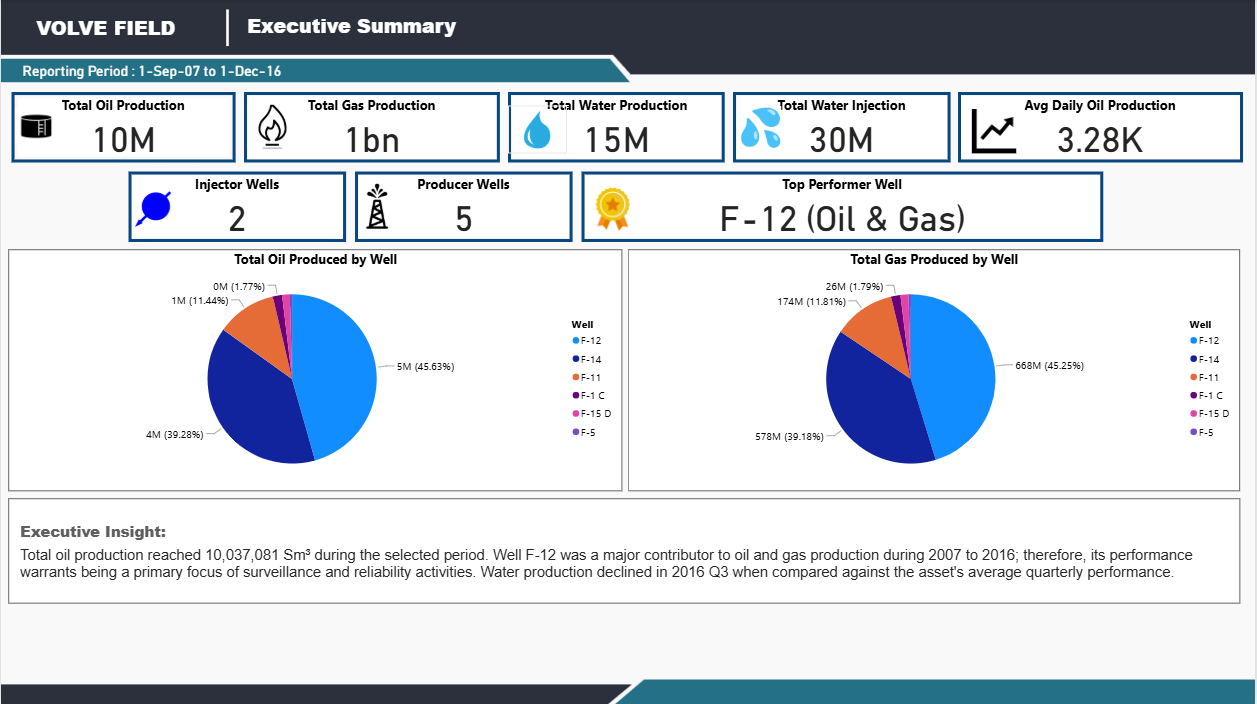

What the dashboard file says about the page in this screenshot:
{"tool":"powerbi","page":{"name":"Executive Summary","canvas":[1920,1080],"ordinal":0},"visuals":[{"type":"textbox","title":"Executive Summary ","box":[372.3,20.7,1054.7,46],"z":0},{"type":"cardVisual","fields":{"Data":["Production.Active Injector Wells"]},"box":[195.3,263.8,333.2,108],"z":0,"group":"g2"},{"type":"shape","title":"Vertical","box":[321.9,15,50.5,56],"z":1000},{"type":"cardVisual","fields":{"Data":["Production.Active Producer Wells"]},"box":[542.3,264.6,333.2,108],"z":1000,"group":"g2"},{"type":"group","id":"g1","title":"Filter","box":[0,0,1920.6,1080],"z":2000},{"type":"cardVisual","fields":{"Data":["Production.Top Performer Well"]},"box":[889.3,264.6,799.7,108],"z":2000,"group":"g2"},{"type":"textbox","title":"VOLVE FIELD","box":[11.5,23,298.7,39.1],"z":3000},{"type":"cardVisual","fields":{"Data":["Sum(Daily Production Data.BORE_OIL_VOL)"]},"box":[16.1,142.5,343,108],"z":4000},{"type":"cardVisual","fields":{"Data":["Sum(Daily Production Data.BORE_GAS_VOL)"]},"box":[371.8,143.2,392,108],"z":5000},{"type":"cardVisual","fields":{"Data":["Sum(Daily Production Data.BORE_WAT_VOL)"]},"box":[776.2,143.2,332,108],"z":6000},{"type":"image","box":[776.7,163.1,89.6,73.5],"z":7000},{"type":"image","box":[372.3,144.8,87.3,101.1],"z":8000},{"type":"image","box":[16.1,144.8,75.8,101.1],"z":9000},{"type":"cardVisual","fields":{"Data":["Sum(Daily Production Data.BORE_WI_VOL)"]},"box":[1121.4,142.5,333.2,108],"z":12000},{"type":"image","box":[1126,158.6,75.8,75.8],"z":13000},{"type":"cardVisual","fields":{"Data":["Daily Production Data.Reporting Period"]},"box":[16.1,71.2,478,71.2],"z":14000},{"type":"cardVisual","fields":{"Data":["Daily Production Data.Average of Daily Oil Production"]},"box":[1466,142.5,436.6,108],"z":15000},{"type":"image","box":[1475.2,163.1,91.9,78.1],"z":16000},{"type":"cardVisual","fields":{"Data":["Daily Production Data.Insight"]},"box":[11.5,765.2,1886.6,160.9],"z":17000},{"type":"pieChart","title":"Total Oil Produced by Well","fields":{"Category":["Daily Production Data.WELLBORE NAME"],"Y":["Sum(Daily Production Data.BORE_OIL_VOL)"]},"box":[11.5,383.9,939.8,370],"z":18000},{"type":"pieChart","title":"Total Gas Produced by Well","fields":{"Category":["Daily Production Data.WELLBORE NAME"],"Y":["Sum(Daily Production Data.BORE_GAS_VOL)"]},"box":[960.5,383.9,937.5,370],"z":19000},{"type":"group","id":"g2","title":"Group 1","box":[195.3,263.8,1493.6,108],"z":20000},{"type":"image","box":[195.3,287.2,75.8,68.9],"z":21000},{"type":"image","box":[533.1,275.7,87.3,82.7],"z":22000},{"type":"image","box":[889.3,282.6,96.5,78.1],"z":23000}]}

Visuals, with their boxes in screenshot pixels (x1, y1, x2, y2), scaled from the page's 1920x1080 canvas onto the 1257x704 screenshot:
"Executive Summary " textbox: {"x1": 244, "y1": 13, "x2": 934, "y2": 43}
cardVisual - Production.Active Injector Wells: {"x1": 128, "y1": 172, "x2": 346, "y2": 242}
"Vertical" shape: {"x1": 211, "y1": 10, "x2": 244, "y2": 46}
cardVisual - Production.Active Producer Wells: {"x1": 355, "y1": 172, "x2": 573, "y2": 243}
"Filter" group: {"x1": 0, "y1": 0, "x2": 1256, "y2": 703}
cardVisual - Production.Top Performer Well: {"x1": 582, "y1": 172, "x2": 1106, "y2": 243}
"VOLVE FIELD" textbox: {"x1": 8, "y1": 15, "x2": 203, "y2": 40}
cardVisual - Sum(Daily Production Data.BORE_OIL_VOL): {"x1": 11, "y1": 93, "x2": 235, "y2": 163}
cardVisual - Sum(Daily Production Data.BORE_GAS_VOL): {"x1": 243, "y1": 93, "x2": 500, "y2": 164}
cardVisual - Sum(Daily Production Data.BORE_WAT_VOL): {"x1": 508, "y1": 93, "x2": 726, "y2": 164}
image: {"x1": 508, "y1": 106, "x2": 567, "y2": 154}
image: {"x1": 244, "y1": 94, "x2": 301, "y2": 160}
image: {"x1": 11, "y1": 94, "x2": 60, "y2": 160}
cardVisual - Sum(Daily Production Data.BORE_WI_VOL): {"x1": 734, "y1": 93, "x2": 952, "y2": 163}
image: {"x1": 737, "y1": 103, "x2": 787, "y2": 153}
cardVisual - Daily Production Data.Reporting Period: {"x1": 11, "y1": 46, "x2": 323, "y2": 93}
cardVisual - Daily Production Data.Average of Daily Oil Production: {"x1": 960, "y1": 93, "x2": 1246, "y2": 163}
image: {"x1": 966, "y1": 106, "x2": 1026, "y2": 157}
cardVisual - Daily Production Data.Insight: {"x1": 8, "y1": 499, "x2": 1243, "y2": 604}
"Total Oil Produced by Well" pieChart: {"x1": 8, "y1": 250, "x2": 623, "y2": 491}
"Total Gas Produced by Well" pieChart: {"x1": 629, "y1": 250, "x2": 1243, "y2": 491}
"Group 1" group: {"x1": 128, "y1": 172, "x2": 1106, "y2": 242}
image: {"x1": 128, "y1": 187, "x2": 177, "y2": 232}
image: {"x1": 349, "y1": 180, "x2": 406, "y2": 234}
image: {"x1": 582, "y1": 184, "x2": 645, "y2": 235}
